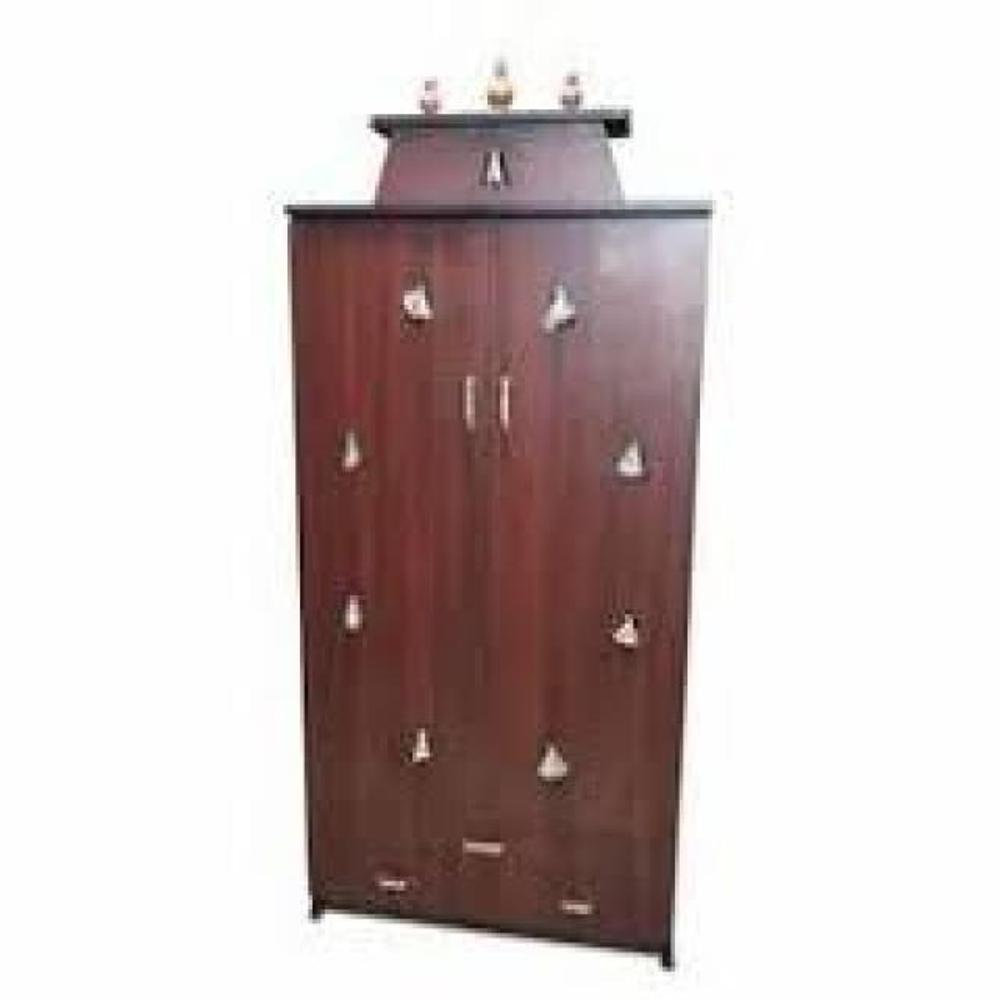cabinet: (292, 71, 712, 964)
